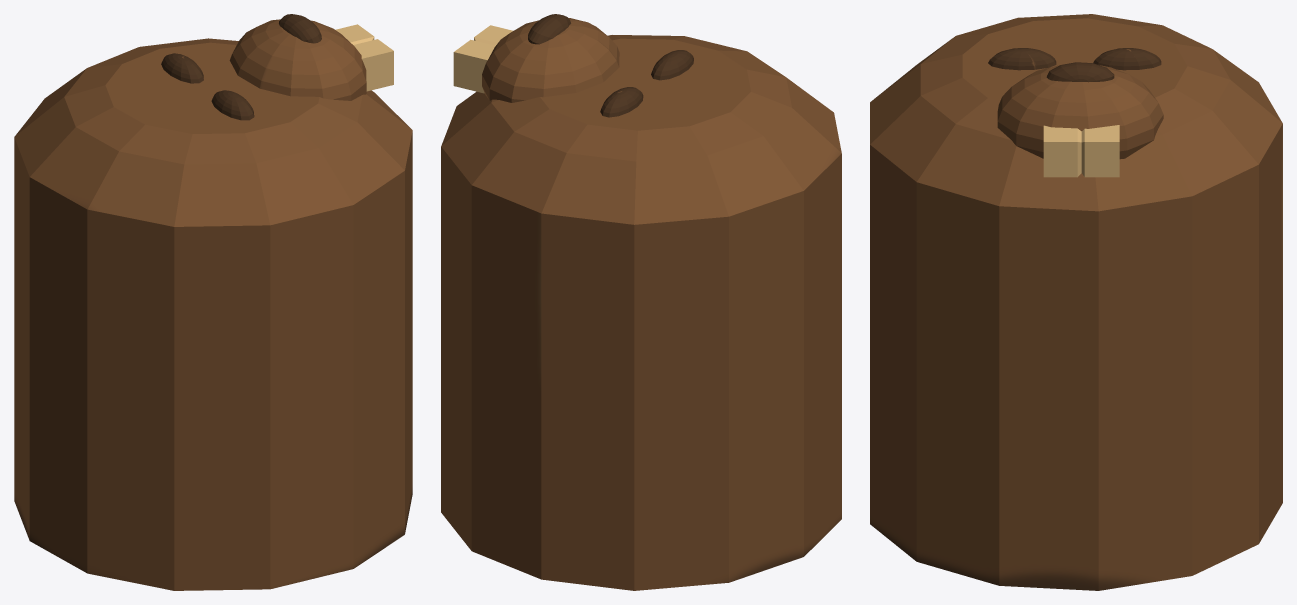
File: Mole.fbx
The picture shows the model from 3 angles, left to right: view 1: azimuth 30°, elevation 25°; view 2: azimuth 150°, elevation 25°; view 3: azimuth 270°, elevation 25°; orthographic projection. The views are drawn at different scales.
Visible parts, largest first — view 1: Cylinder; view 2: Cylinder; view 3: Cylinder.
Boxes of the visible parts, x1,y1,x2,y2 form: Cylinder: [14, 14, 412, 590]; Cylinder: [441, 14, 841, 590]; Cylinder: [870, 14, 1282, 590].
Size of the model in its own units: 34.54 by 44.42 by 34.29.
